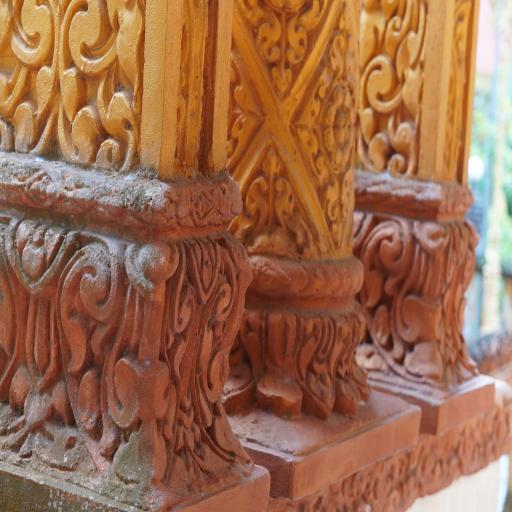hoa: (317, 168, 355, 253), (324, 87, 355, 172), (262, 0, 310, 15)
la: (1, 207, 154, 511), (152, 233, 257, 504), (1, 0, 148, 172), (352, 205, 448, 391), (360, 2, 426, 181), (228, 141, 324, 259), (237, 0, 333, 93), (445, 213, 483, 392), (259, 310, 306, 424), (447, 2, 474, 188), (300, 309, 342, 424), (230, 46, 266, 168), (225, 298, 259, 427), (337, 310, 374, 424), (459, 403, 512, 477), (294, 70, 328, 180), (408, 427, 458, 498), (325, 6, 362, 86), (368, 452, 413, 512), (310, 469, 368, 512)
